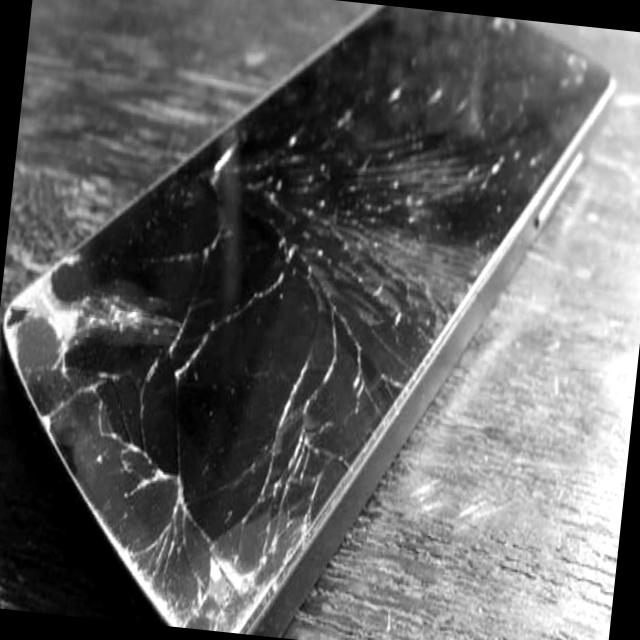Crack: (6, 198, 552, 623), (102, 3, 619, 232)
